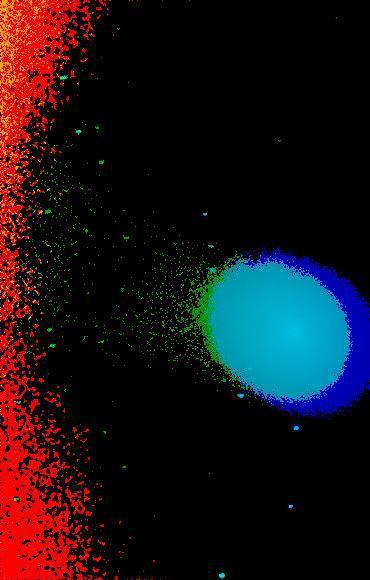star: (211, 365, 241, 395)
